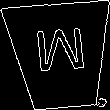M_S: (31, 29, 89, 83)
